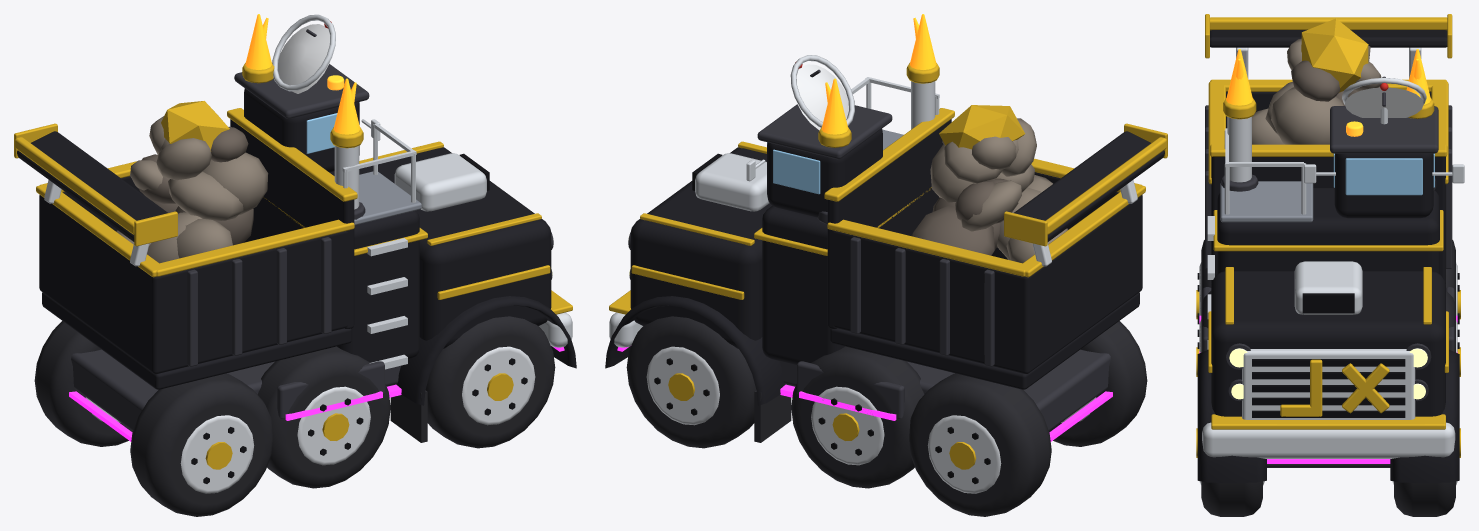
File: vehicle_debris_hauler_t3.glb
3 renders of one model, left to right at view 1: azimuth 30°, elevation 25°; view 2: azimuth 150°, elevation 25°; view 3: azimuth 270°, elevation 25°, orthographic.
Parts seen in each view (by area): view 1: Bed.Side, Hood, Bed.Tailgate, WheelRR.Tyre, WheelMR.Tyre, WheelFR.Tyre, Tower, Bed.Headboard, WheelRL.Tyre, Bed.Floor, Chassis, Bed.Spoiler (+36 smaller); view 2: Bed.Side.001, Hood, Bed.Tailgate, WheelRL.Tyre, Tower, WheelML.Tyre, WheelFL.Tyre, Bed.Headboard, WheelRR.Tyre, Bed.Floor, Chassis, Bed.Spoiler (+34 smaller); view 3: Hood, Tower, Bumper, Grille, Grille.Slat, Cab.Roof, Cab.Shell, Deck, Bed.Nugget, Bed.Spoiler, Bed.Headboard, Fender (+41 smaller).
Boxes of the visible parts, x1,y1,x2,y2 form: Bed.Side: (160,231,348,373); Hood: (360,147,551,348); Bed.Tailgate: (39,195,160,373); WheelRR.Tyre: (130,373,272,516); WheelMR.Tyre: (257,346,390,488); WheelFR.Tyre: (425,316,555,448); Tower: (329,169,419,362); Bed.Headboard: (230,119,354,328); WheelRL.Tyre: (34,321,132,446); Bed.Floor: (42,292,351,389); Chassis: (71,349,400,430); Bed.Spoiler: (17,131,167,241); Bed.Side.001: (832,231,1021,373); Hood: (630,147,772,348); Bed.Tailgate: (1021,195,1142,373); WheelRL.Tyre: (909,373,1051,516); Tower: (762,205,844,364); WheelML.Tyre: (791,346,924,488); WheelFL.Tyre: (626,316,756,448); Bed.Headboard: (827,119,951,328); WheelRR.Tyre: (1049,321,1147,446); Bed.Floor: (830,292,1139,389); Chassis: (779,349,1110,430); Bed.Spoiler: (1014,131,1164,241); Hood: (1211,271,1445,416); Tower: (1217,188,1439,274); Bumper: (1202,422,1455,458); Grille: (1242,349,1415,419); Grille.Slat: (1252,359,1405,417); Cab.Roof: (1330,106,1438,153); Cab.Shell: (1334,153,1433,218); Deck: (1220,181,1313,222); Bed.Nugget: (1301,18,1368,92); Bed.Spoiler: (1210,30,1447,47); Bed.Headboard: (1211,156,1445,283); Fender: (1197,350,1266,483).
Bounding box in the file's own units: 4.18 × 3.53 × 2.17.
